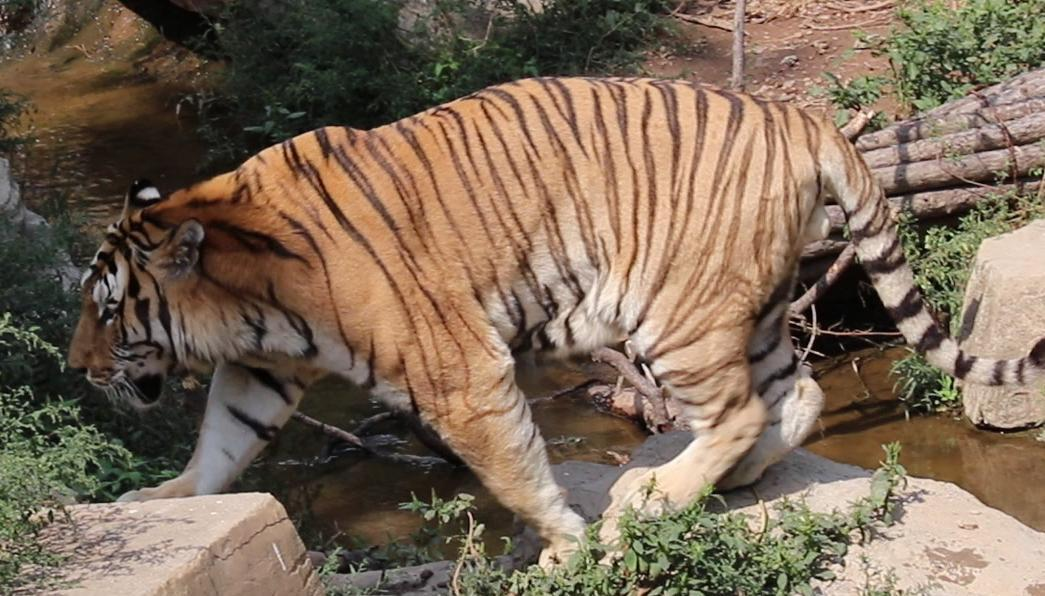tiger: (69, 77, 1044, 561)
